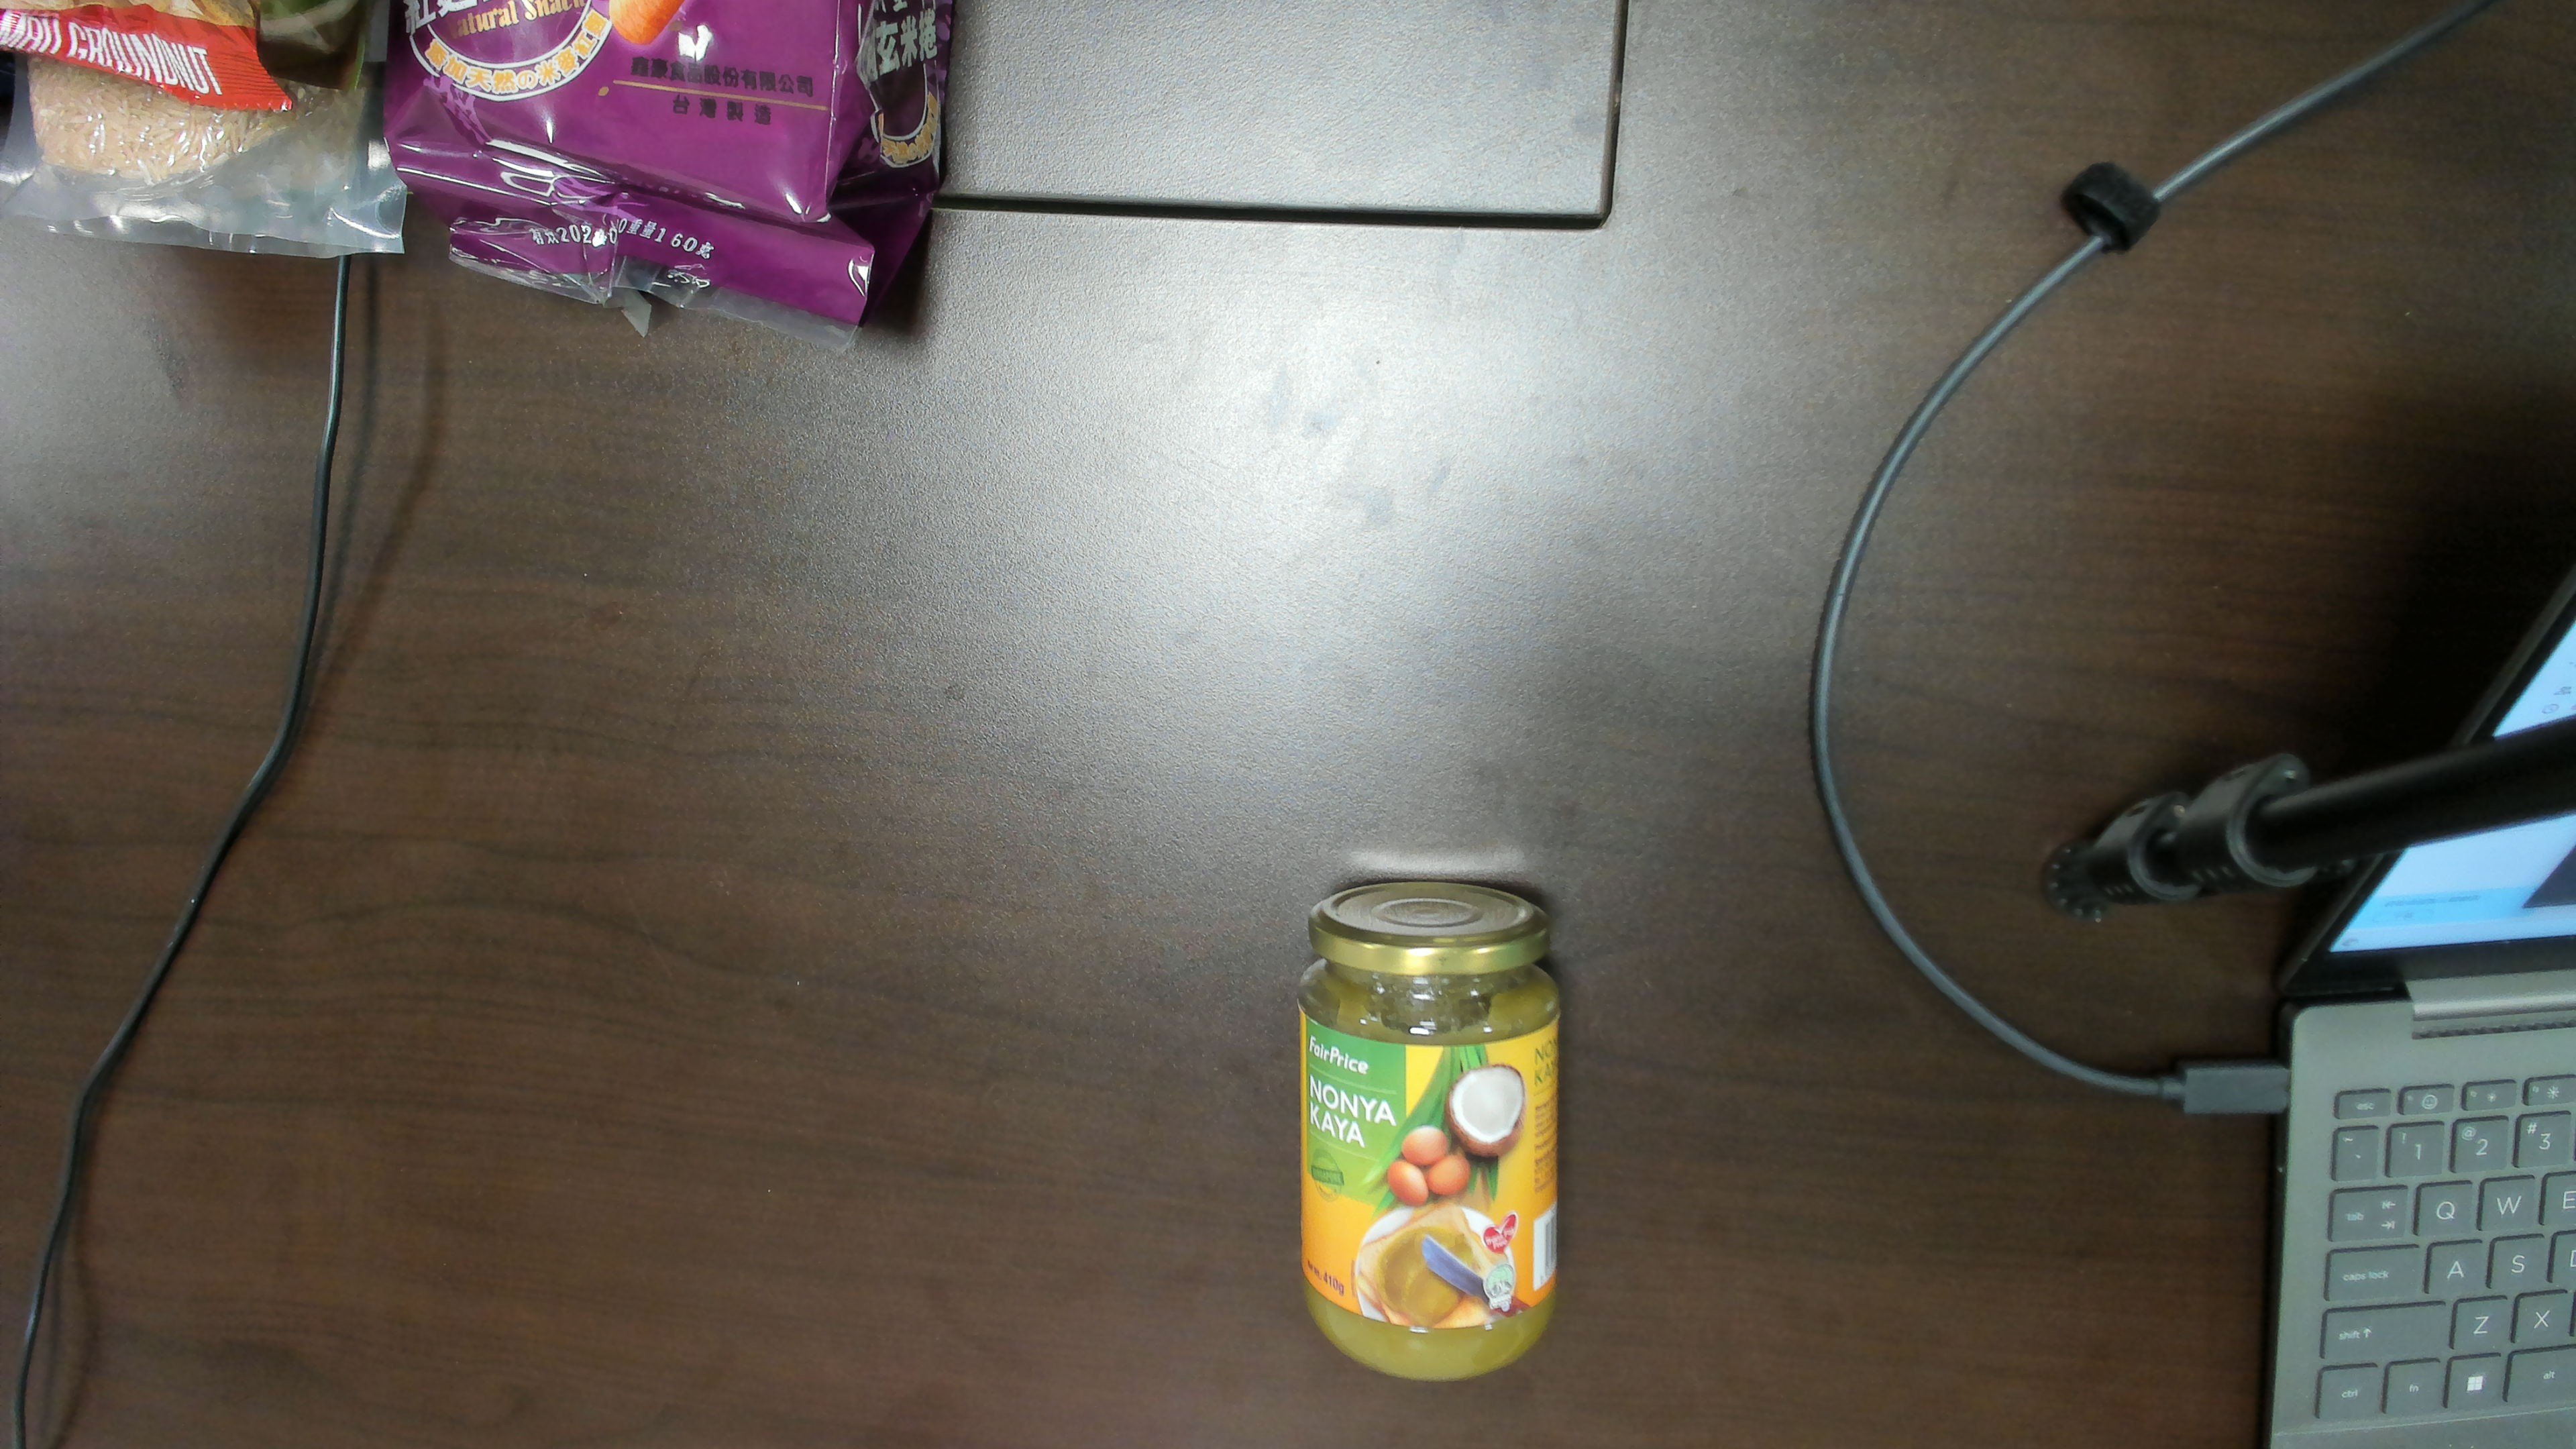Kaya_400-499g_Halal_NonHealthy: (1306, 1035, 1541, 1315)
